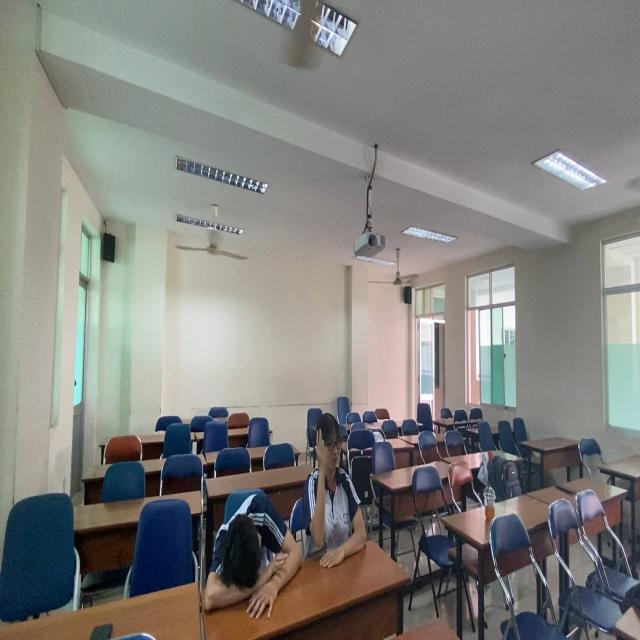raise_hand: (306, 404, 371, 556)
sleep: (198, 484, 306, 625)
